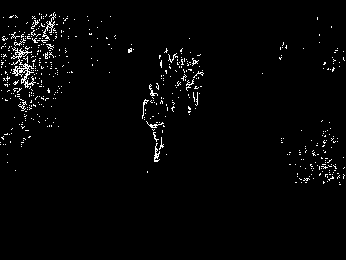person: (140, 82, 167, 163), (178, 50, 206, 115), (158, 45, 172, 87)
